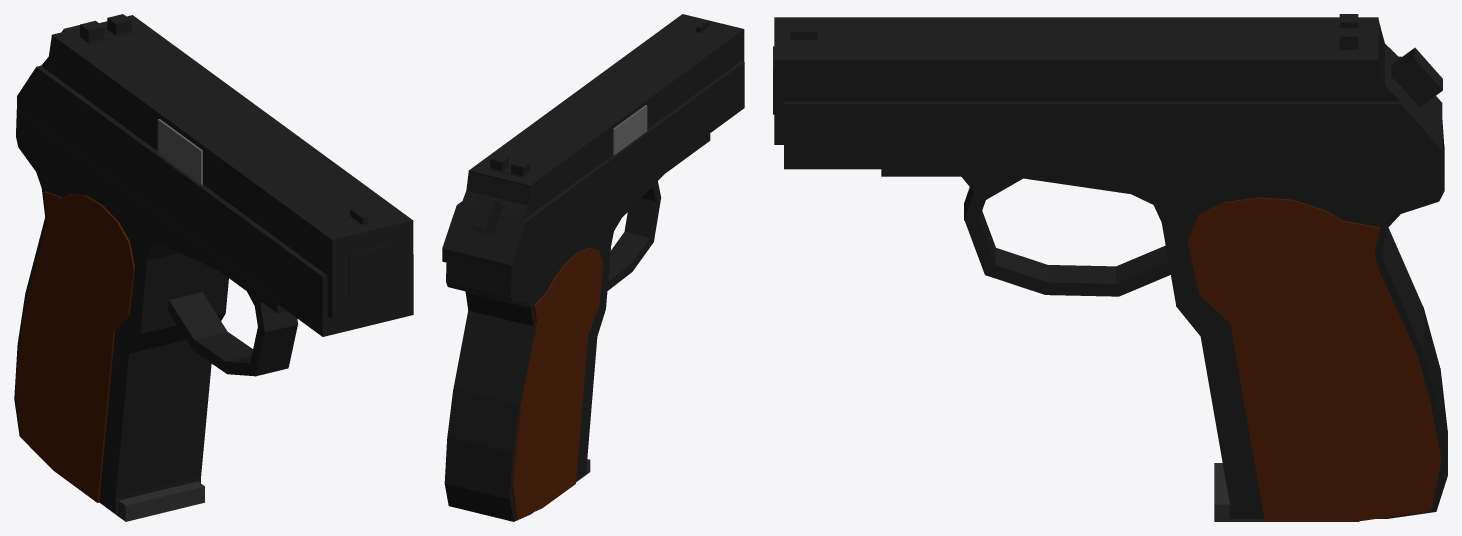
Rendered from makarov_cube.glb.
3 renders of one model, left to right at view 1: azimuth 30°, elevation 25°; view 2: azimuth 150°, elevation 25°; view 3: azimuth 270°, elevation 25°, orthographic. The views are drawn at different scales.
Visible parts, largest first — view 1: Object_5, Object_2, Object_4, Object_3; view 2: Object_5, Object_2, Object_3; view 3: Object_5, Object_2, Object_4.
Boxes of the visible parts, x1=… form: Object_5: x1=14, y1=14, x2=413, y2=512; Object_2: x1=15, y1=191, x2=134, y2=502; Object_4: x1=100, y1=481, x2=204, y2=521; Object_3: x1=157, y1=119, x2=202, y2=184; Object_5: x1=442, y1=14, x2=744, y2=521; Object_2: x1=512, y1=247, x2=603, y2=519; Object_3: x1=613, y1=105, x2=647, y2=155; Object_5: x1=773, y1=14, x2=1447, y2=518; Object_2: x1=1187, y1=197, x2=1441, y2=521; Object_4: x1=1214, y1=463, x2=1359, y2=521.
Bounding box in the file's own units: 0.0601 × 0.2742 × 0.3514.
